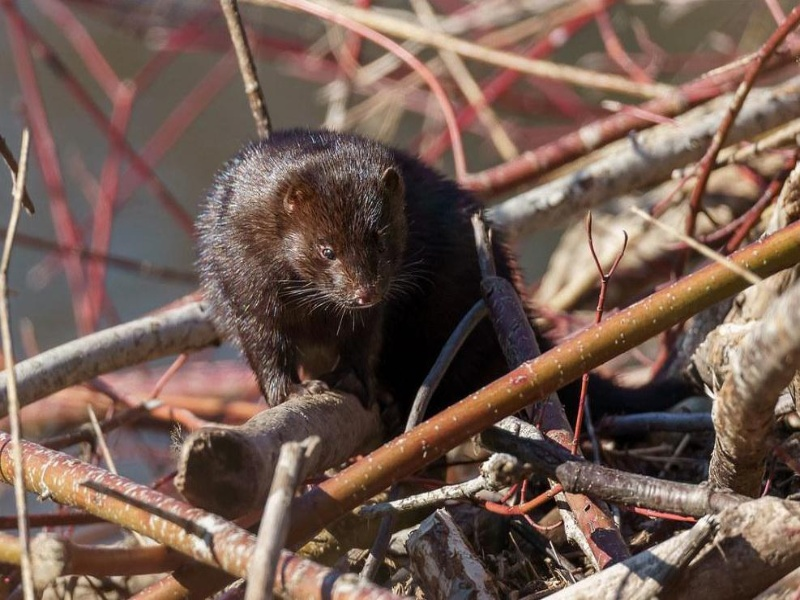minkish: (197, 132, 641, 434)
